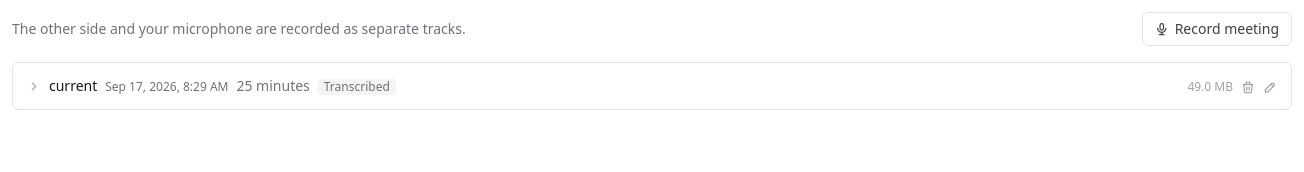
Test: renaming a meeting › seeds the input with the current title, not with an empty box
Check: the list with test id "meetings-list" is shown, box x1=12 y1=62 x2=1292 y2=110
Click the button with test id "rename-start": x=1270, y=86 x1=1263 y1=75 x2=1277 y2=97
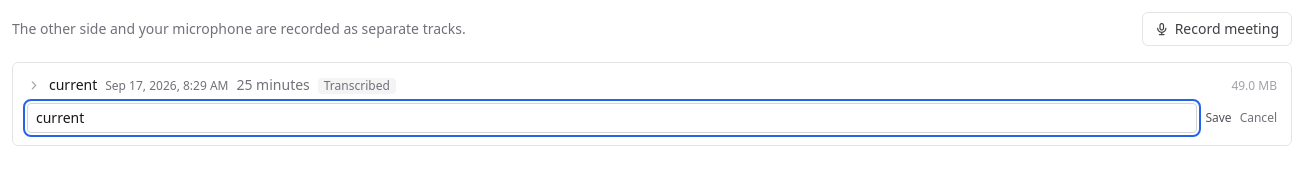
Check: the field named "Meeting title" holds "current", box x1=27 y1=103 x2=1198 y2=133
